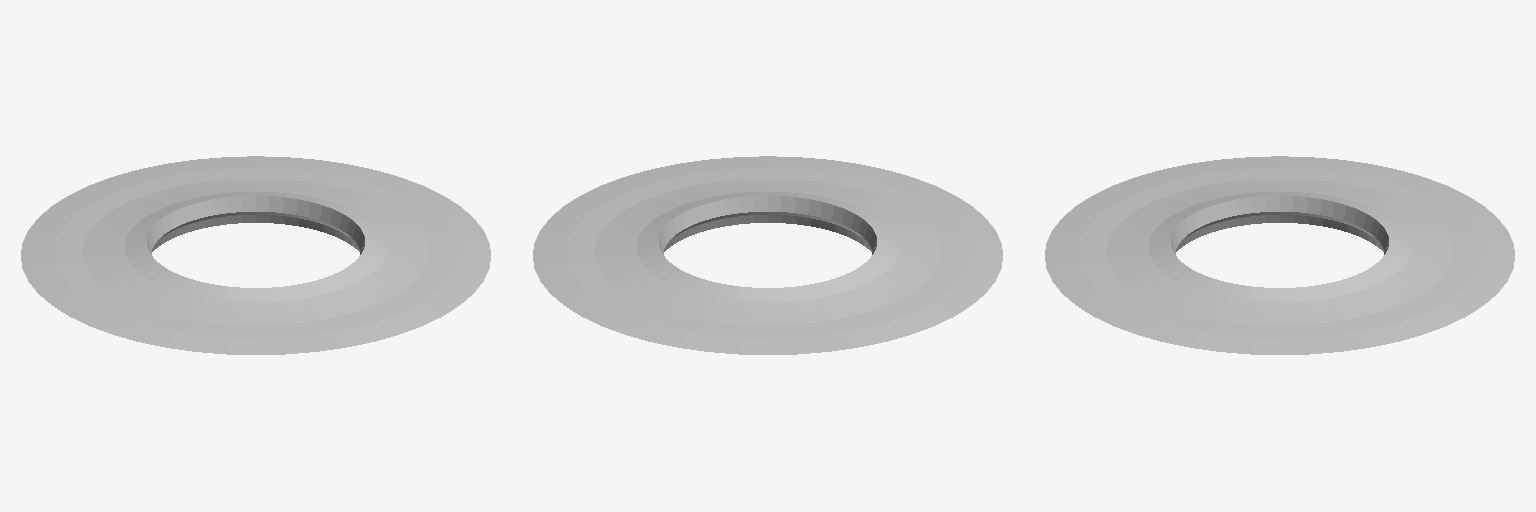
Rendered from Black_Hole_Disk.obj.
The picture shows the model from 3 angles: view 1: azimuth 30°, elevation 25°; view 2: azimuth 150°, elevation 25°; view 3: azimuth 270°, elevation 25°; orthographic projection.
Parts seen in each view (by area): view 1: Torus; view 2: Torus; view 3: Torus.
Boxes of the visible parts, <box> form: Torus: <box>21,156,490,354</box>; Torus: <box>533,156,1002,354</box>; Torus: <box>1045,156,1514,354</box>.
Size of the model in its own units: 8.36 by 0.5544 by 8.36.